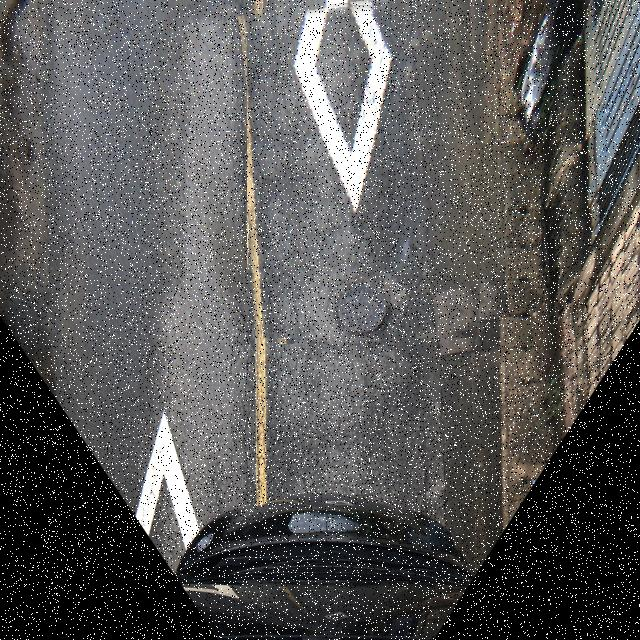diamond: (247, 0, 499, 338)
